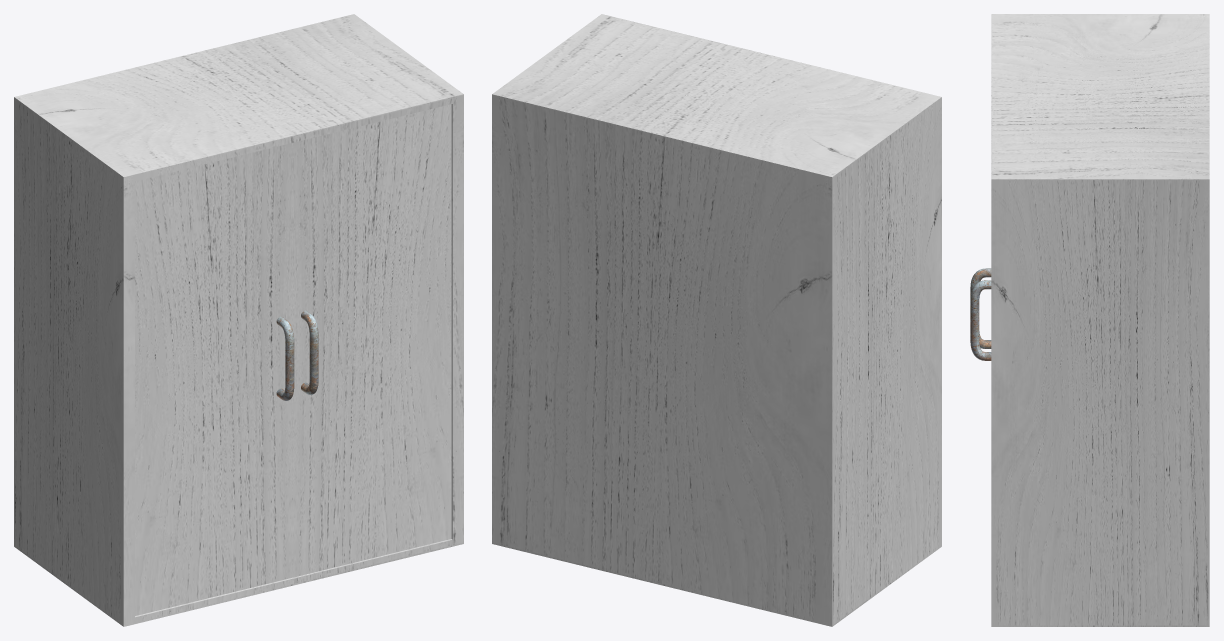
The model's file is JDshelf.fbx.
The picture shows the model from 3 angles, left to right: view 1: azimuth 30°, elevation 25°; view 2: azimuth 150°, elevation 25°; view 3: azimuth 270°, elevation 25°; orthographic projection.
Parts seen in each view (by area): view 1: Cube, Cube.002, Cube.003, Cylinder.001, Cylinder; view 2: Cube; view 3: Cube, Cylinder, Cylinder.001.
Boxes of the visible parts, x1,y1,x2,y2 form: Cube: [14, 14, 463, 626]; Cube.002: [292, 104, 451, 577]; Cube.003: [135, 143, 292, 615]; Cylinder.001: [276, 316, 294, 400]; Cylinder: [301, 310, 318, 394]; Cube: [492, 14, 941, 626]; Cube: [991, 14, 1209, 626]; Cylinder: [970, 280, 991, 360]; Cylinder.001: [970, 268, 991, 348].
Bounding box in the file's own units: 200 × 253 × 122.
